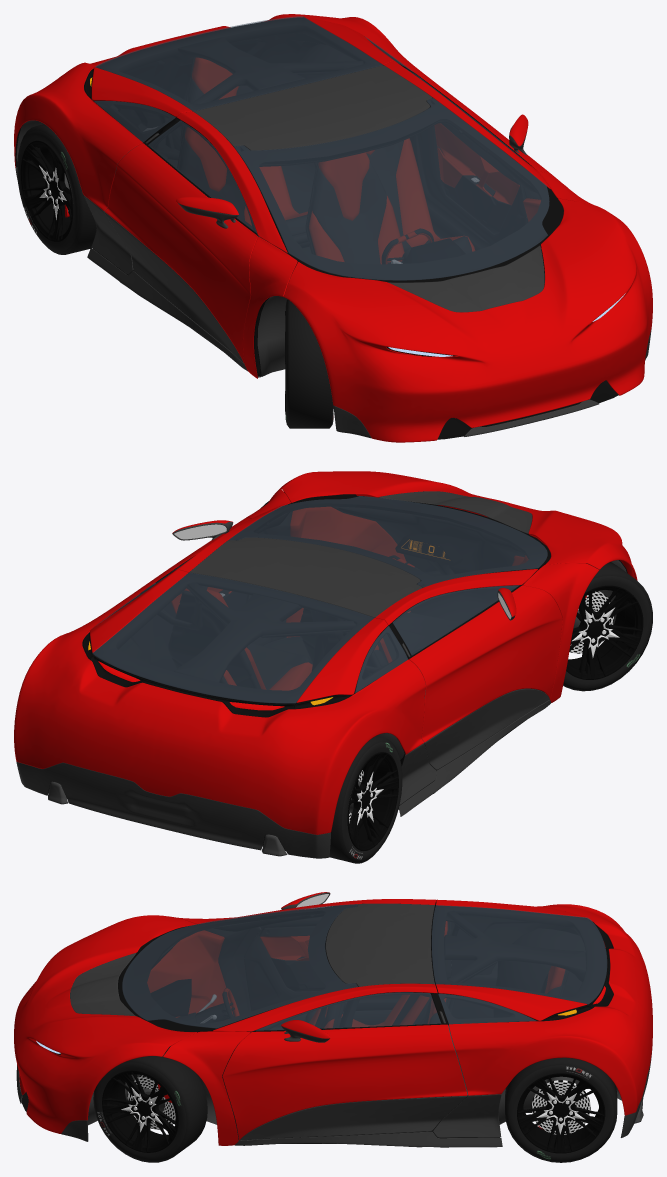
The model's file is car.glb.
3 views of the same model, one above another, from view 1: azimuth 30°, elevation 25°; view 2: azimuth 150°, elevation 25°; view 3: azimuth 270°, elevation 25° (orthographic). The views are drawn at different scales.
Parts seen in each view (by area): view 1: BodyHood, BodyWindshield, BodyRearwindow, BodyDoorRColor1, BodyRearPanelsColor1, BodyRoofPanel, BodyWindshieldGasket, InteriorSeatsColor1, InteriorSeatsColor2, BodyPillars, InteriorPillar, InteriorRearHatch (+19 smaller); view 2: BodyRearPanelsColor1, BodyRearwindow, BodyWindshield, BodyPanelsColor2, BodyDoorRColor1, BodyRoofPanel, BodyHood, InteriorRearHatch, BodyPillars, InteriorPillar, InteriorDashMid, BodyWindshieldGasket (+20 smaller); view 3: BodyWindshield, BodyRearPanelsColor1, BodyDoorLColor1, BodyHood, BodyRearwindow, BodyRoofPanel, BodyPillars, BodyWindshieldGasket, BodyDoorLColor2, BodyPanelsColor2, WheelFrontL, InteriorRearHatch (+24 smaller).
Boxes of the visible parts, x1,y1,x2,y2 form: BodyHood: (283,198,652,442); BodyWindshield: (234,98,549,280); BodyRearwindow: (95,16,382,111); BodyDoorRColor1: (104,143,257,362); BodyRearPanelsColor1: (14,14,428,210); BodyRoofPanel: (193,65,432,150); BodyWindshieldGasket: (234,99,563,282); InteriorSeatsColor1: (185,57,475,264); InteriorSeatsColor2: (180,78,472,264); BodyPillars: (176,61,598,378); InteriorPillar: (158,37,434,168); InteriorRearHatch: (93,17,383,117); BodyRearPanelsColor1: (14,569,425,834); BodyRearwindow: (92,572,373,703); BodyWindshield: (229,496,547,587); BodyPanelsColor2: (16,700,550,858); BodyDoorRColor1: (409,585,562,742); BodyRoofPanel: (189,537,422,617); BodyHood: (279,471,637,580); InteriorRearHatch: (93,573,386,707); BodyPillars: (175,489,599,702); InteriorPillar: (174,574,417,682); InteriorDashMid: (332,503,528,622); BodyWindshieldGasket: (230,495,550,587); BodyWindshield: (122,904,358,1028); BodyRearPanelsColor1: (436,899,652,1115); BodyDoorLColor1: (222,1024,467,1139); BodyHood: (14,915,196,1133); BodyRearwindow: (431,905,607,1004); BodyRoofPanel: (326,903,434,986); BodyPillars: (163,899,437,1145); BodyWindshieldGasket: (118,905,357,1032); BodyDoorLColor2: (240,1096,467,1140); BodyPanelsColor2: (16,1050,652,1147); WheelFrontL: (93,1054,207,1162); InteriorRearHatch: (431,905,606,1020).
Size of the model in its own units: 2.54 by 1.15 by 4.36.
21 materials, 3 textured.
